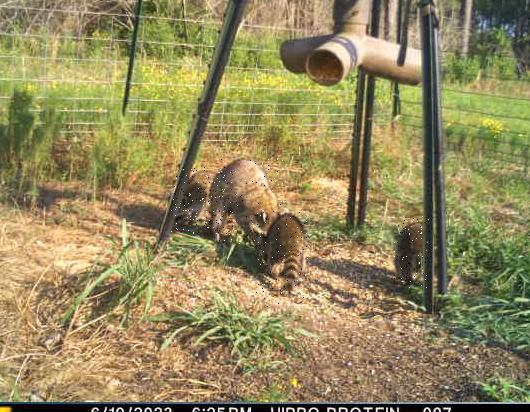Raccoon: (211, 156, 284, 244), (256, 212, 309, 308), (171, 166, 225, 234), (392, 216, 431, 288)
